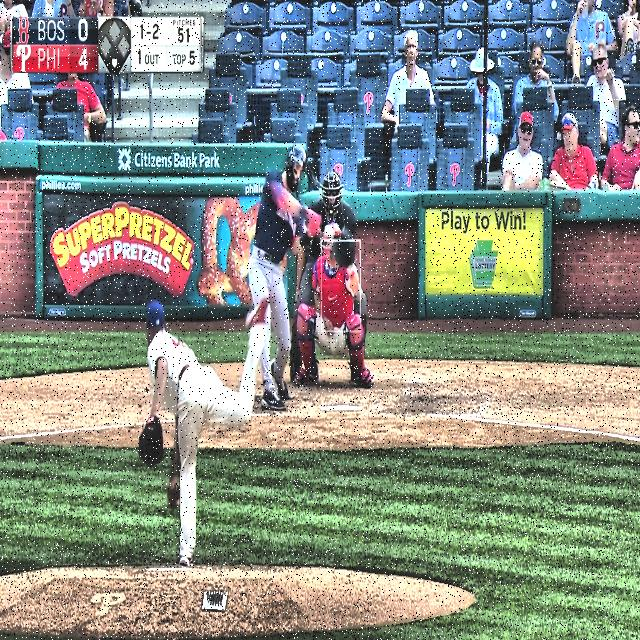baseball: (325, 224, 333, 237)
